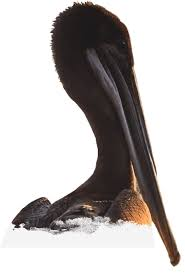pelican: (18, 4, 180, 266)
